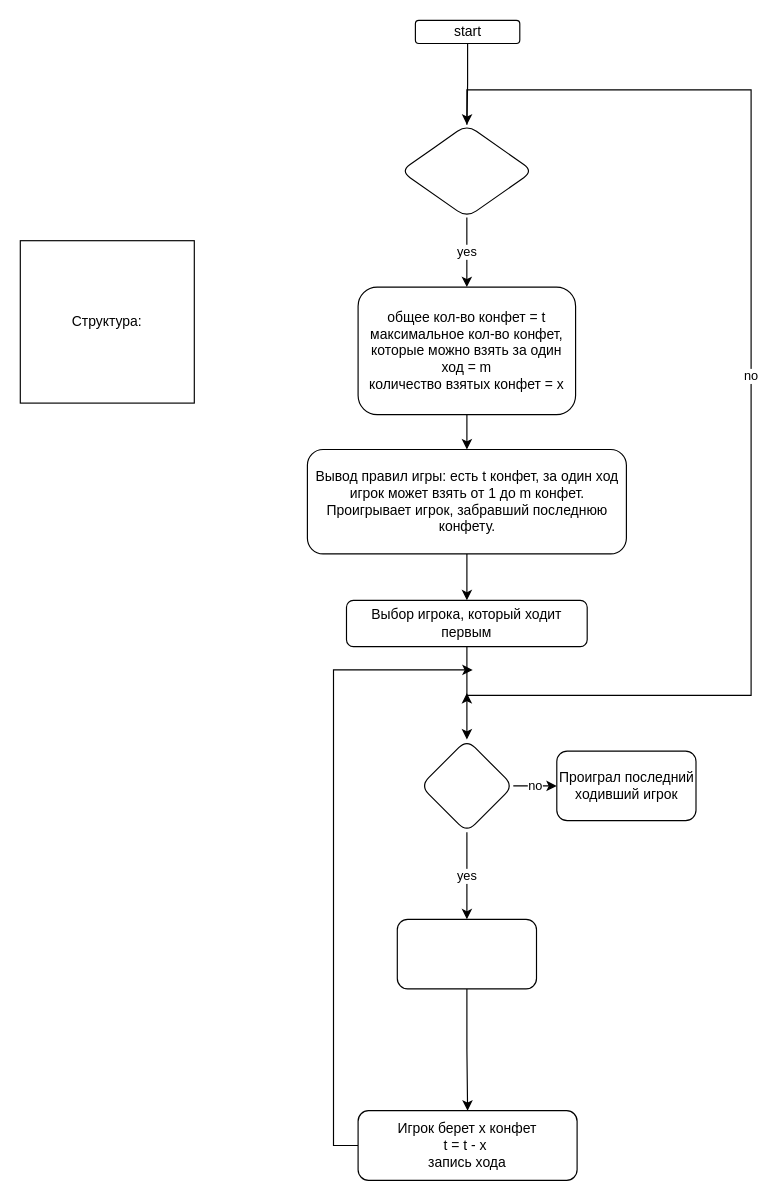
Some shapes in this 781 by 1201 pixel diagram are drawn without their labels. The centre of each missing label's shape, as x and y in pixels:
"t == 0?" belongs at pixel 466 170.
"t > 0?" belongs at pixel 466 785.
"Ходит другой игрок (смена ходящего)" belongs at pixel 466 953.
